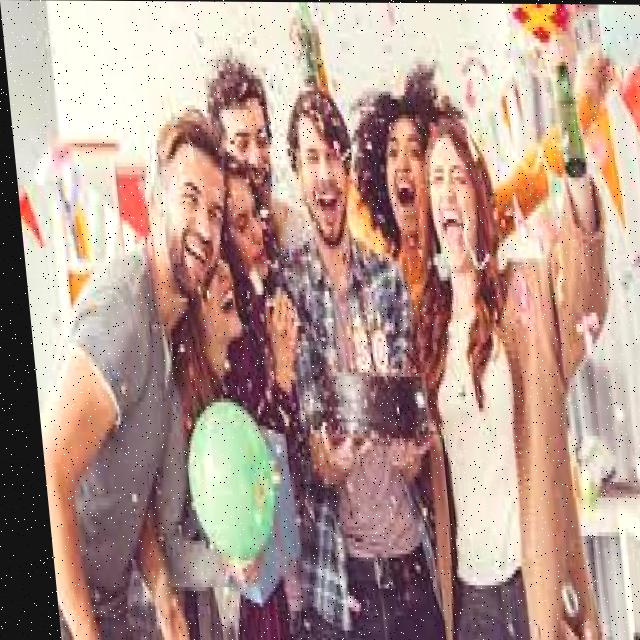balloon: (174, 405, 270, 558)
